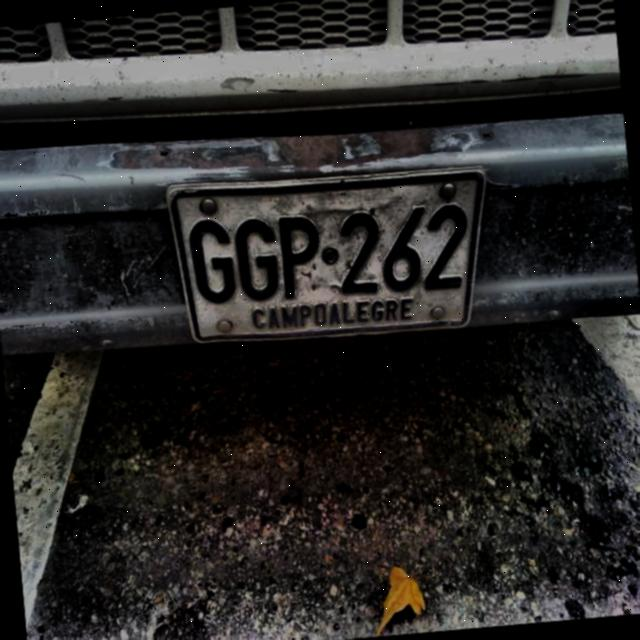plate: (172, 176, 480, 338)
